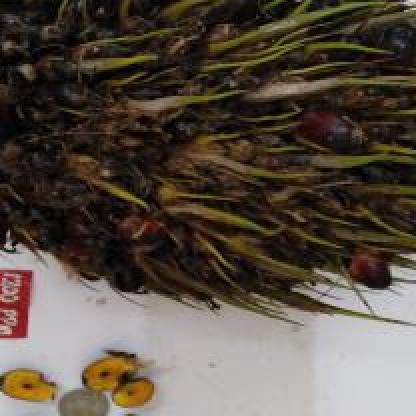Unripe: (0, 0, 416, 270)
